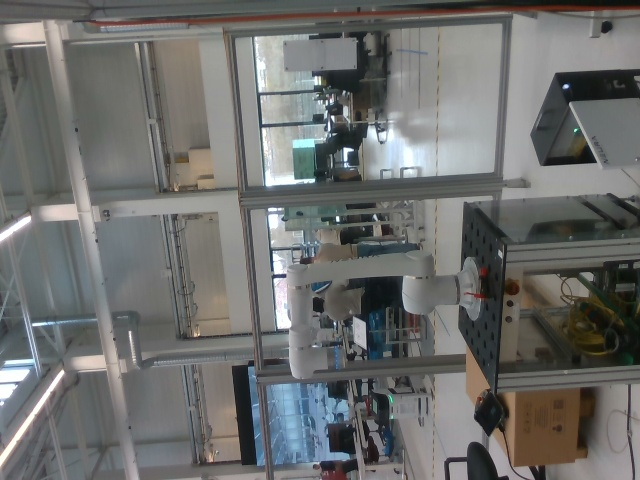Robot arm: (287, 249, 485, 379)
